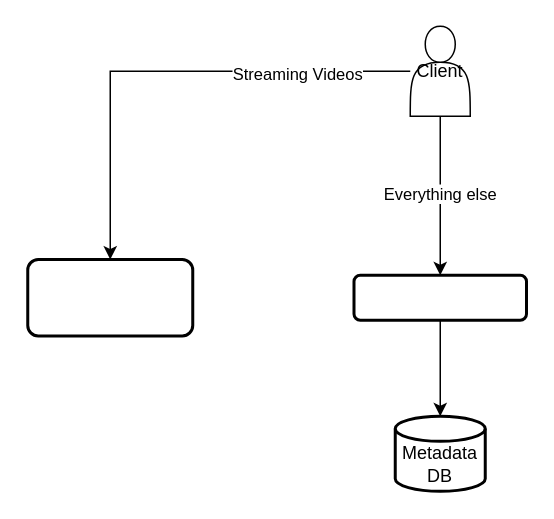
Some shapes in this 554 by 519 pixel diagram are drawn without their labels. The centre of each missing label's shape, as x and y in pixels:
"API Servers" belongs at [439,297].
"CDN" belongs at [110,297].
